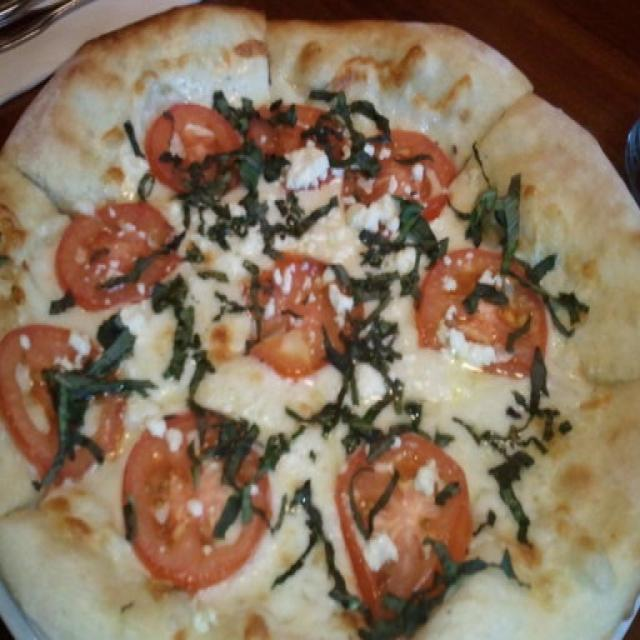Basil: (47, 314, 132, 462), (466, 418, 551, 554), (144, 275, 230, 401), (285, 478, 360, 622), (369, 551, 500, 628), (294, 387, 428, 460), (515, 257, 591, 334), (345, 276, 400, 382), (521, 351, 571, 449), (273, 187, 352, 243), (470, 183, 532, 252), (313, 86, 386, 132), (224, 139, 290, 189), (192, 188, 243, 247), (247, 206, 283, 260), (217, 77, 254, 126), (499, 548, 534, 589), (260, 95, 300, 126)
Pizza: (0, 10, 640, 637)
Tomato: (125, 403, 276, 602), (332, 428, 471, 628), (402, 242, 546, 386), (0, 322, 124, 484), (46, 185, 192, 318), (348, 128, 462, 238), (228, 96, 356, 178), (140, 102, 252, 191)
